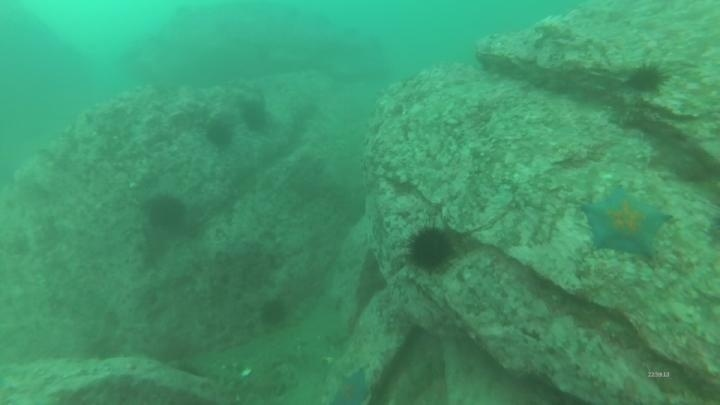echinus: (405, 224, 456, 274), (144, 192, 188, 232), (625, 62, 669, 96), (239, 99, 271, 134), (203, 118, 236, 150), (258, 297, 290, 329)
starfish: (580, 186, 672, 261), (326, 365, 375, 405)
